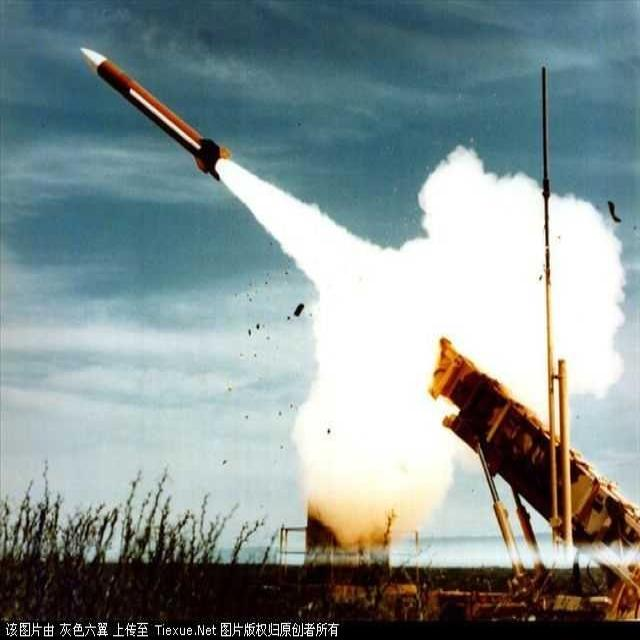missile: (78, 38, 230, 184)
